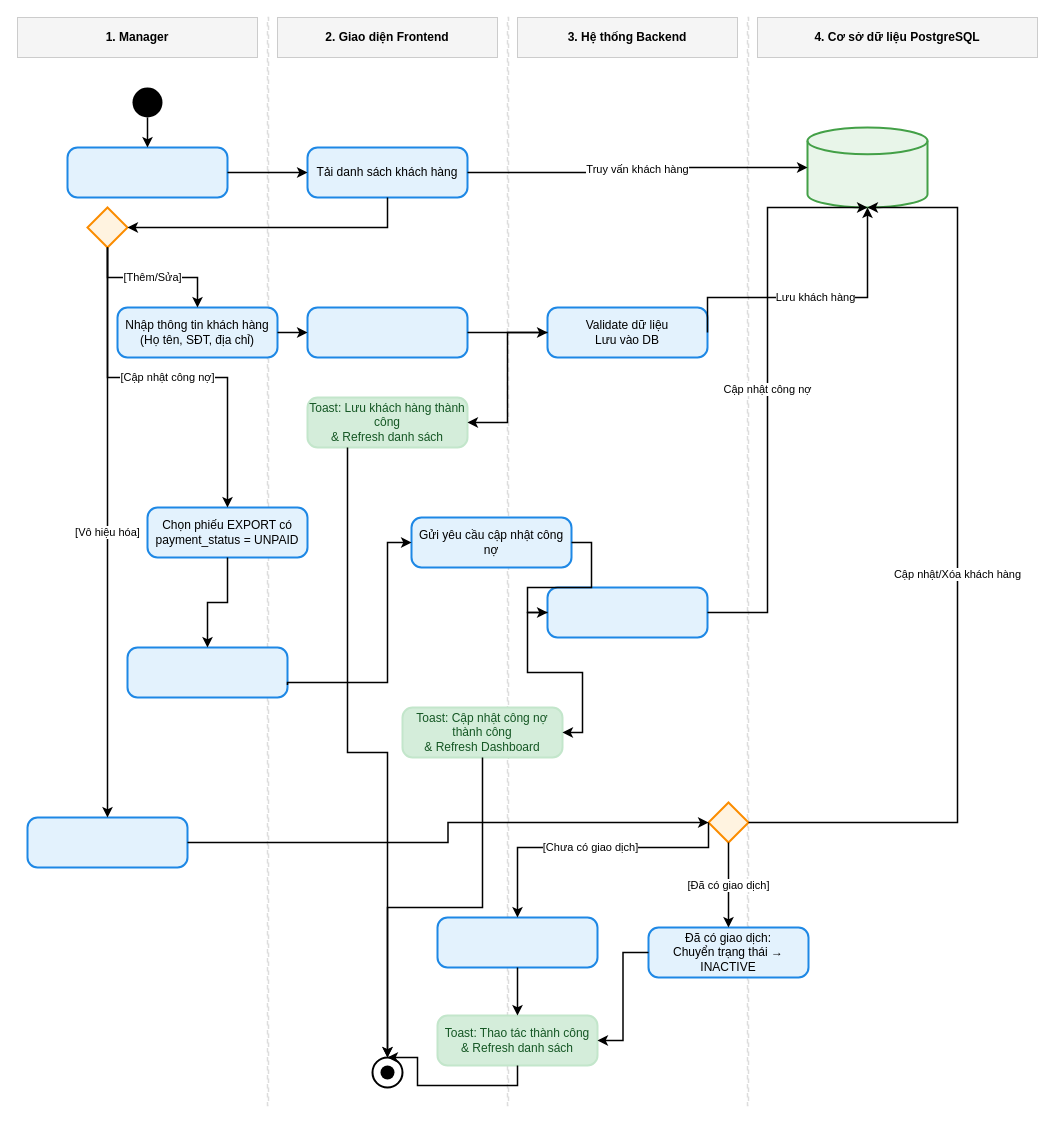
Some shapes in this 1055 by 1124 pixel diagram are drawn without their labels. The shapes that lost their labels are listed below. From the top down, each one's box as (x1, y1, x2, y2) in pixels, then its label:
(66, 146, 228, 198): Xem danh sách khách hàng
(806, 126, 928, 208): Bảng Customers & Receipts
(306, 306, 468, 358): Gửi yêu cầu tạo/sửa khách hàng
(546, 586, 708, 638): 1. payment_status → PAID 2. customers.debt -= giá trị phiếu
(126, 646, 288, 698): Xác nhận khách hàng đã trả tiền
(26, 816, 188, 868): Chọn Vô hiệu hóa khách hàng
(436, 916, 598, 968): Chưa có giao dịch: Xóa vật lý khỏi DB
